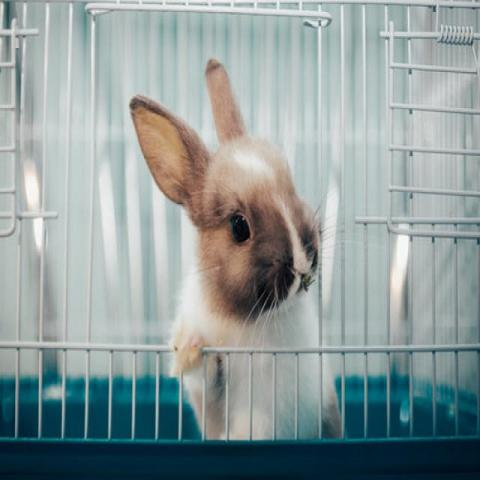small_animal: (0, 0, 479, 478), (126, 56, 346, 440)
